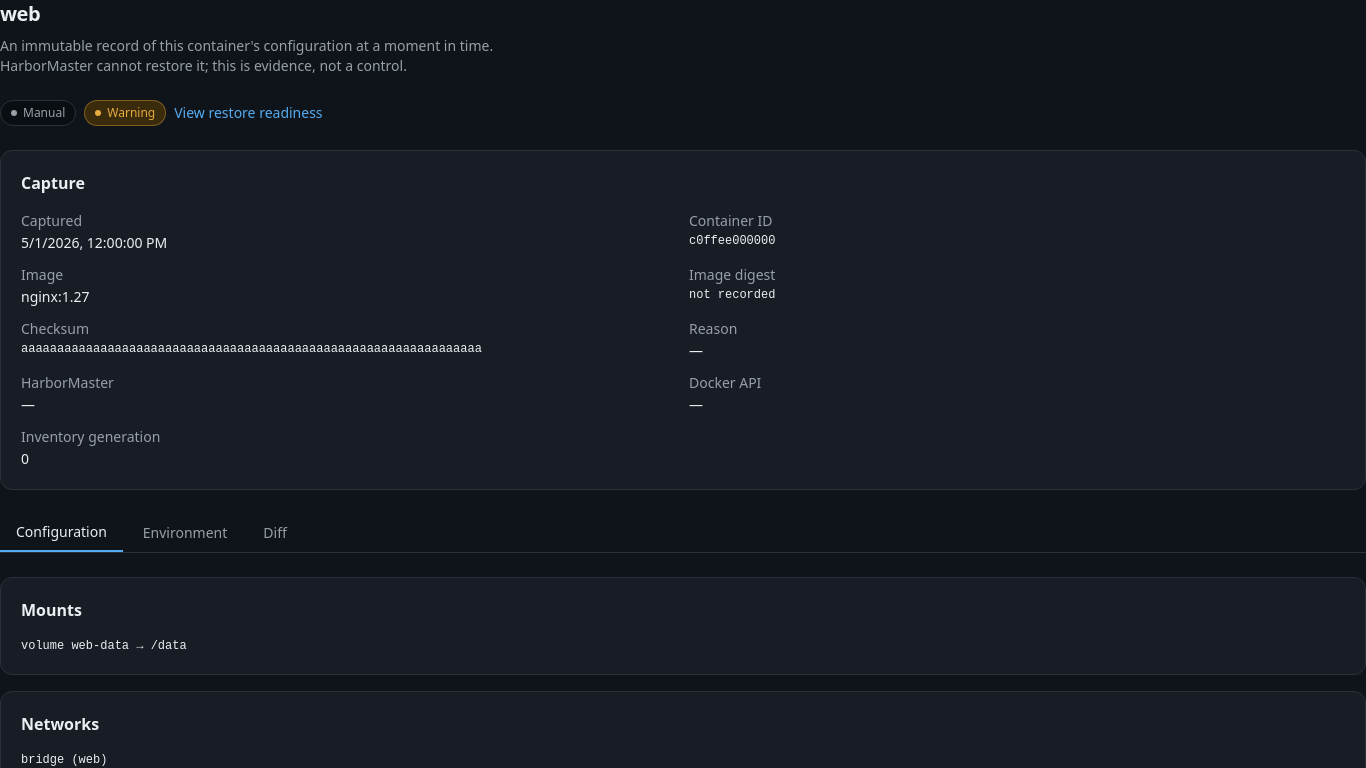
Snapshot detail › never renders a secret value or a digest
Switch to the environment tab.
Step 1. Click the button "environment" → coordinates (185, 533), box left=127, top=514, right=243, bottom=552
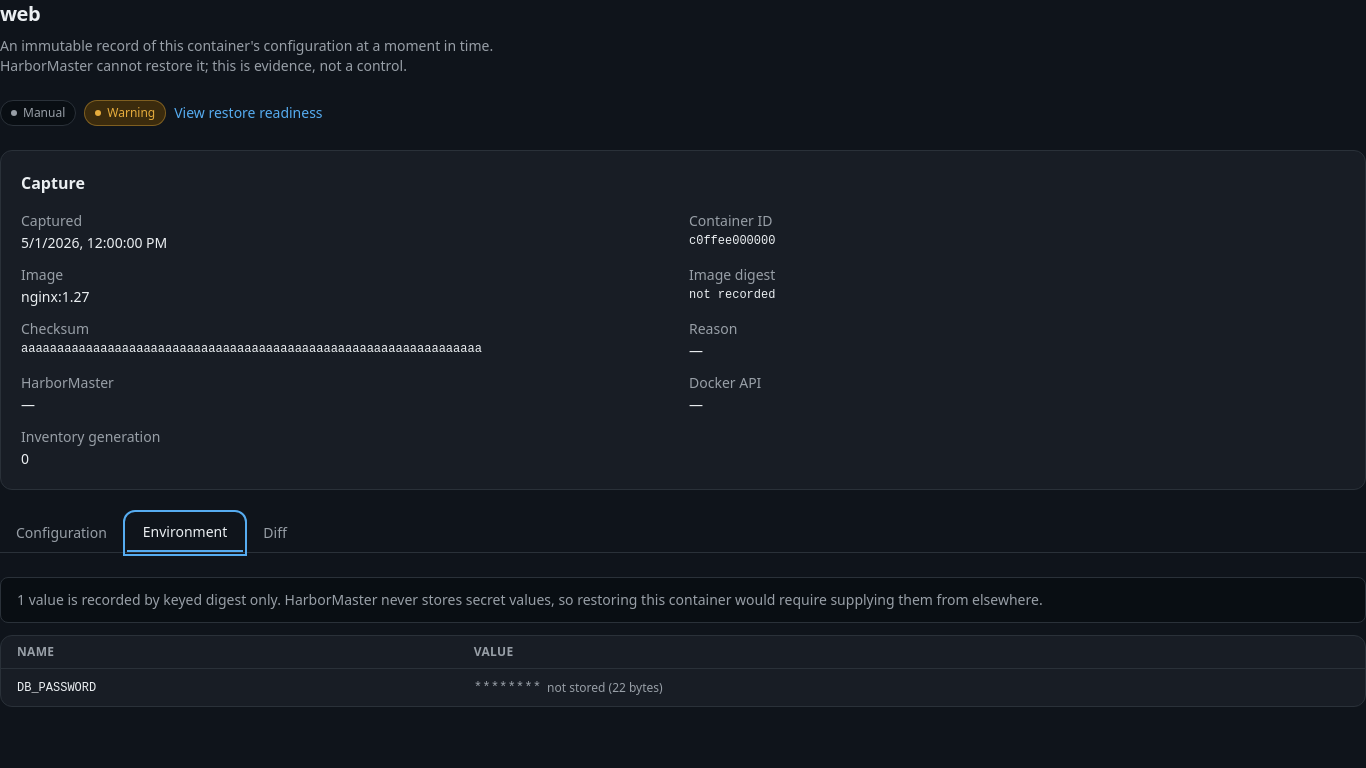
Expected: the text "DB_PASSWORD" is shown, left=1, top=668, right=458, bottom=706
Expected: the text "not stored (22 bytes)" is shown, left=547, top=680, right=663, bottom=696
